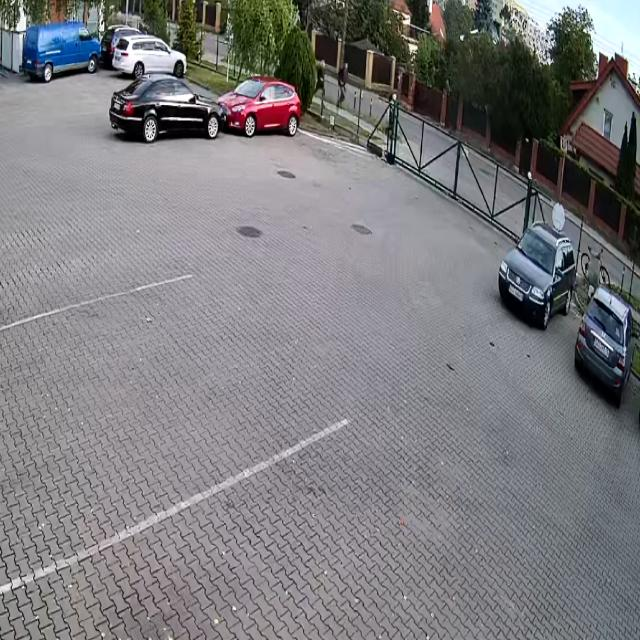non emergency car: (499, 220, 577, 334), (111, 76, 227, 142), (576, 286, 636, 407), (22, 20, 105, 86), (219, 77, 302, 140), (113, 34, 190, 79)
